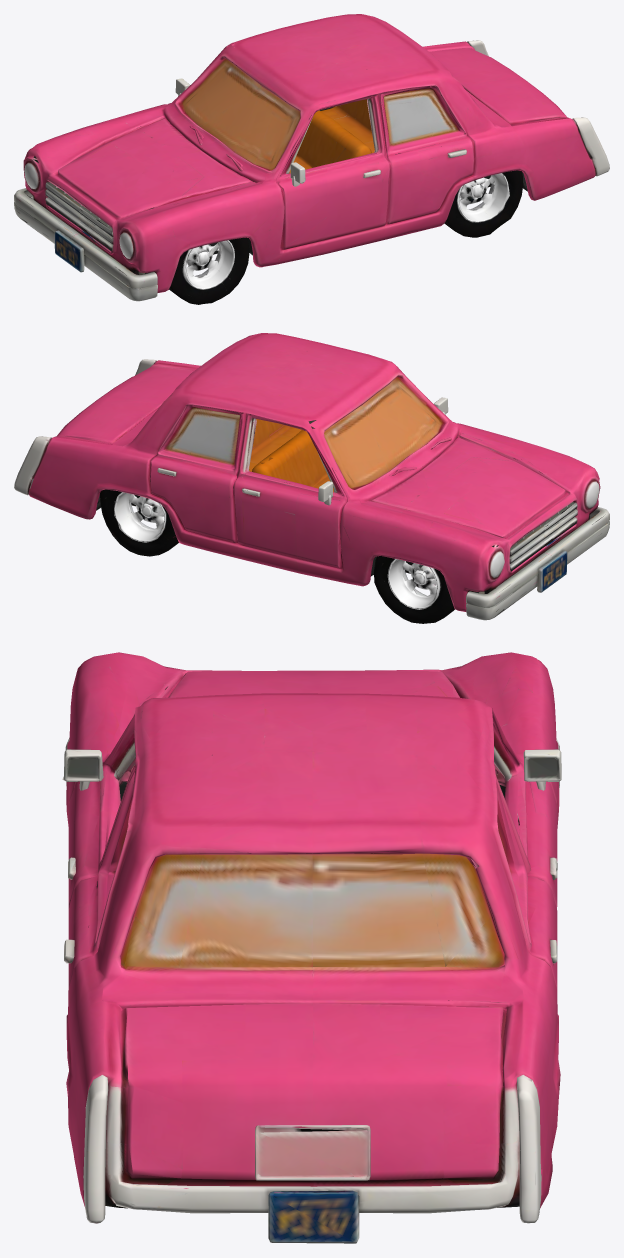
The model's file is simpsons_family_car.glb.
3 renders of one model, top to bottom at view 1: azimuth 30°, elevation 25°; view 2: azimuth 150°, elevation 25°; view 3: azimuth 270°, elevation 25°, orthographic. The views are drawn at different scales.
Bounding box in the file's own units: 0.9531 × 0.3213 × 0.4238.
Materials: 1 (1 with a texture image).
